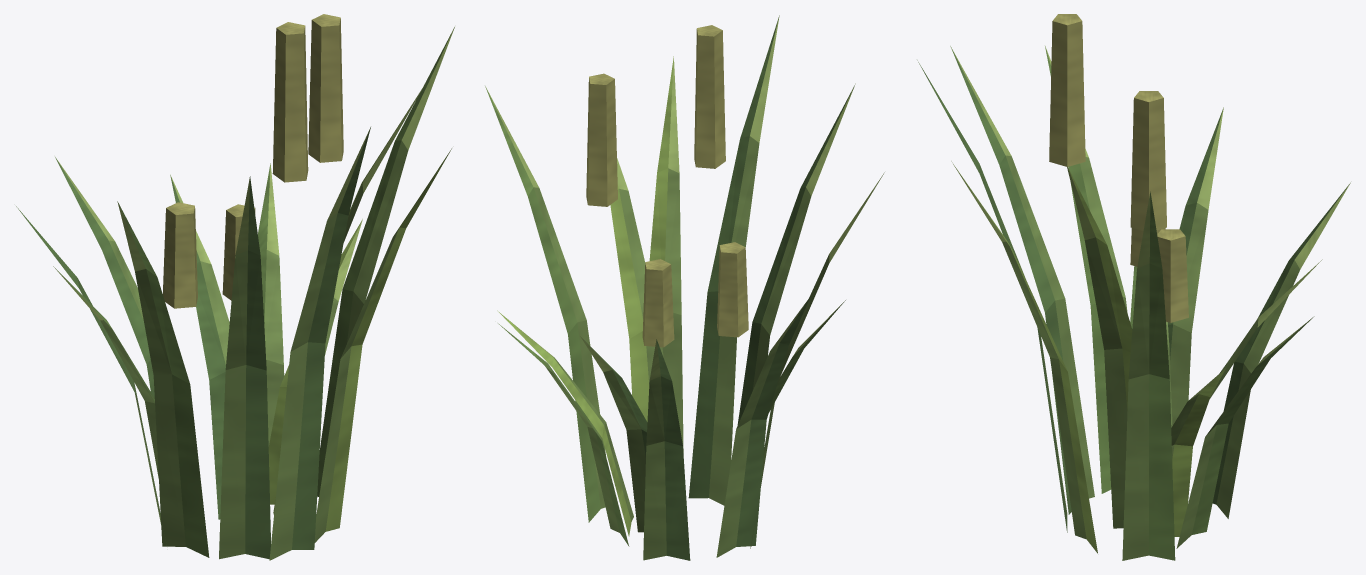
Rendered from grass_wild_seedy_02.fbx.
3 renders of one model, left to right at view 1: azimuth 30°, elevation 25°; view 2: azimuth 150°, elevation 25°; view 3: azimuth 270°, elevation 25°, orthographic. The views are drawn at different scales.
Visible parts, largest first — view 1: grass_wild_seedy_02; view 2: grass_wild_seedy_02; view 3: grass_wild_seedy_02.
Boxes of the visible parts, x1,y1,x2,y2 form: grass_wild_seedy_02: (16,14,454,560); grass_wild_seedy_02: (485,15,884,560); grass_wild_seedy_02: (917,14,1350,560).
Bounding box in the file's own units: 64.67 × 80.5 × 63.
Materials: 1 (1 with a texture image).
